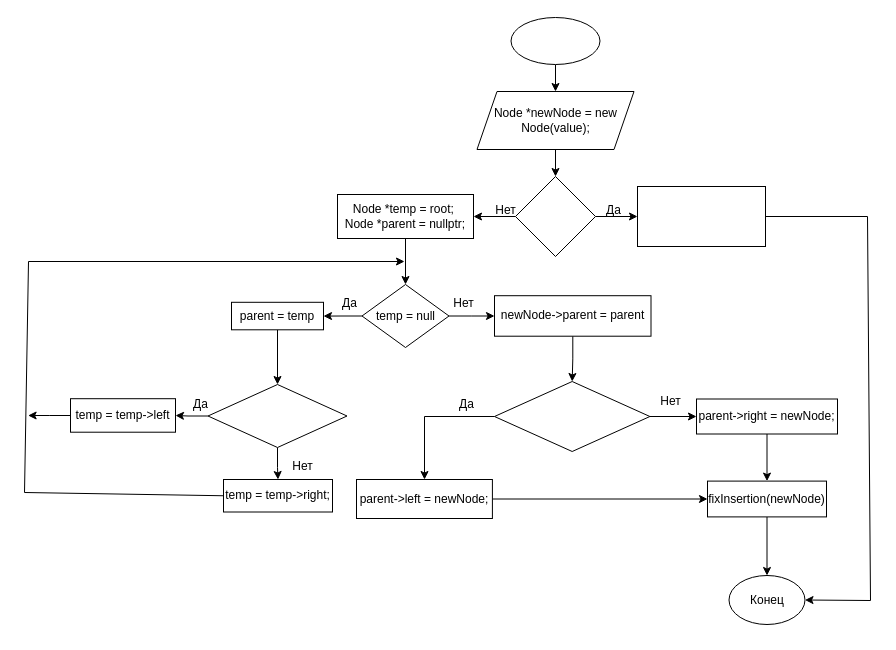
The diagram is 896 pixels wide and 650 high, and some of its shapes have lost their labels. Each missing label, with the centre of its shape:
"!root" belongs at pixel 555 216.
"root = newNode; root->color = BLACK;" belongs at pixel 701 216.
"value < parent->data" belongs at pixel 572 416.
"value < temp -> data" belongs at pixel 277 416.
"Начало" belongs at pixel 555 40.
